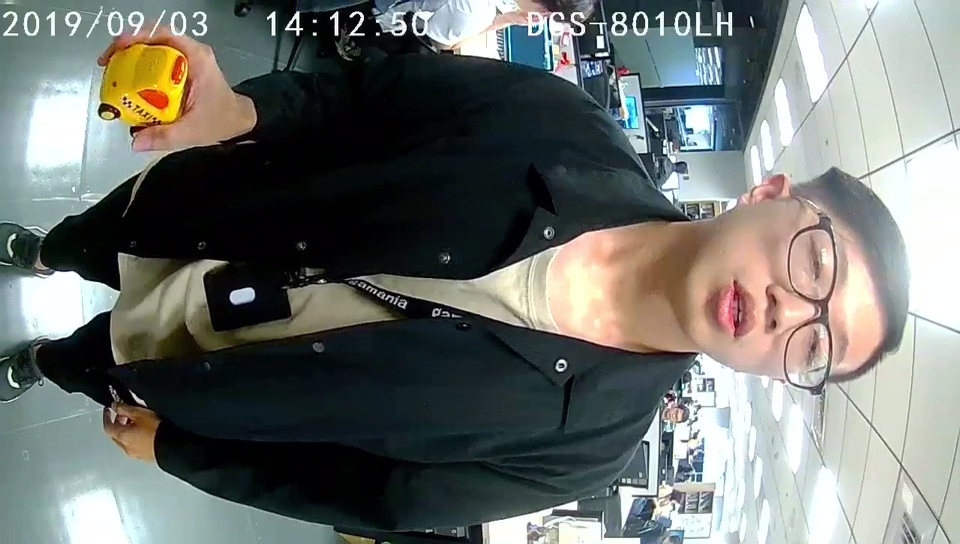car: (100, 44, 188, 125)
